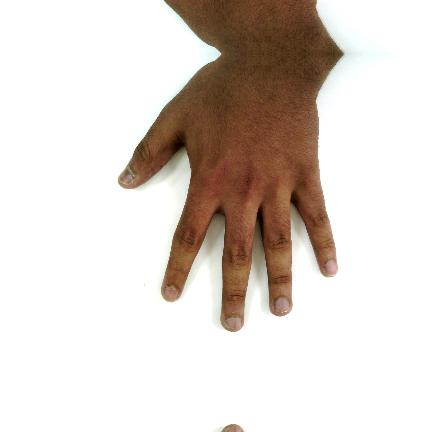Nail: (118, 165, 136, 185), (222, 317, 244, 332), (162, 286, 181, 303), (324, 259, 339, 277), (274, 299, 291, 313), (223, 424, 244, 432)
